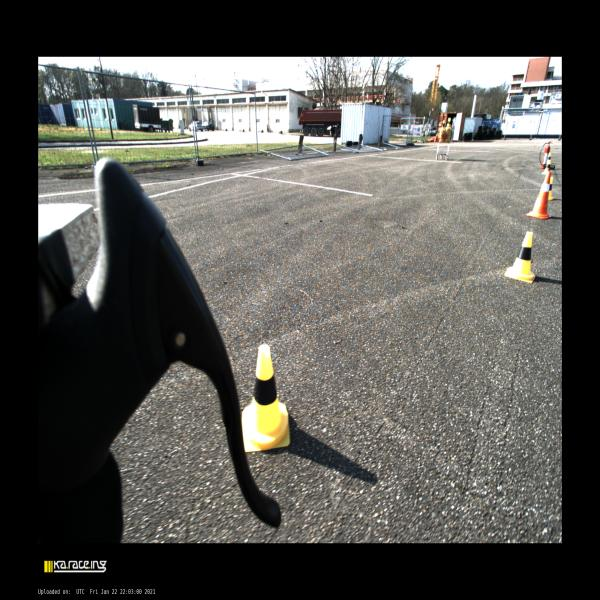large_orange_cone: (526, 171, 551, 219)
yellow_cone: (242, 344, 290, 451), (504, 232, 535, 282), (549, 177, 553, 200), (546, 153, 551, 164), (441, 120, 446, 130), (448, 118, 451, 128)
